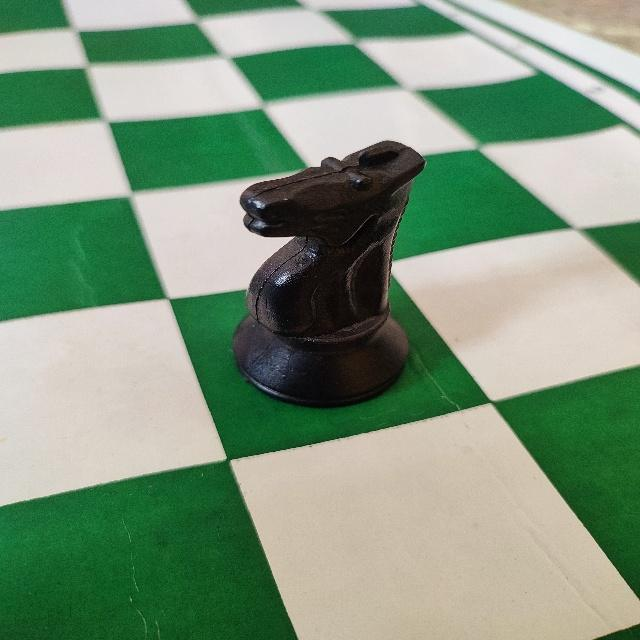Knight: (231, 137, 431, 409)
